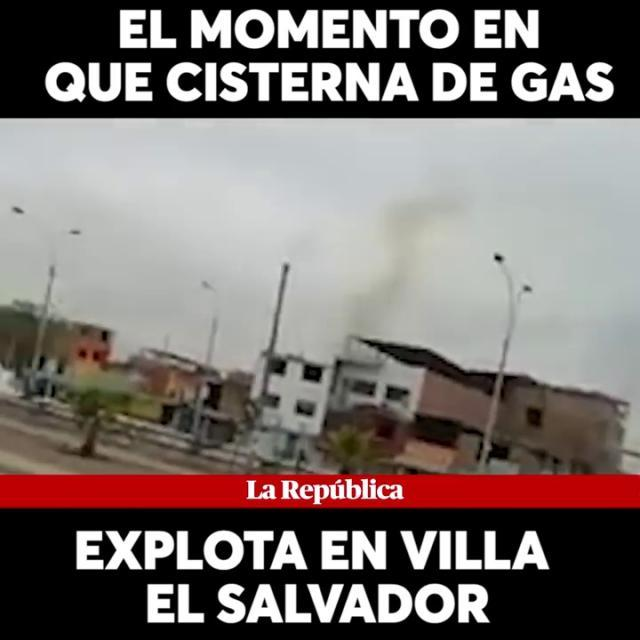Smoke: (330, 163, 514, 362)
